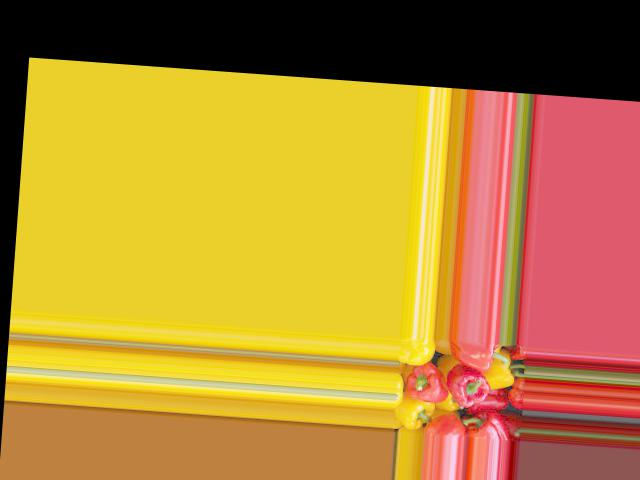bell_pepper: (394, 394, 431, 427)
